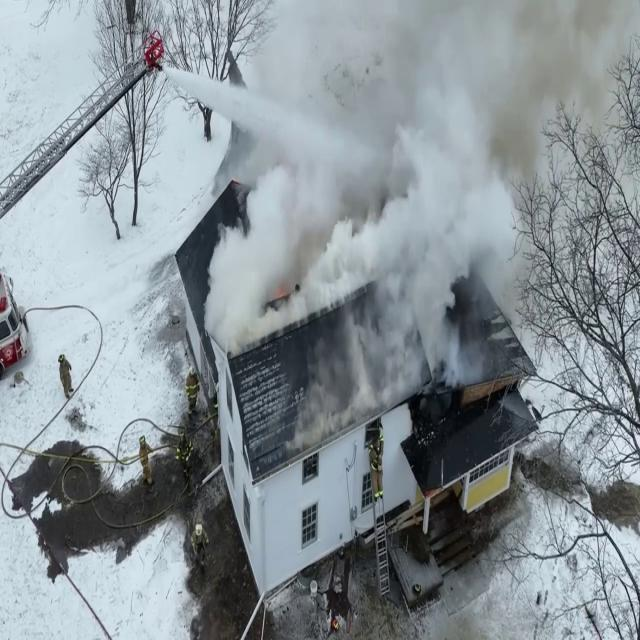Smoke: (193, 0, 567, 402)
